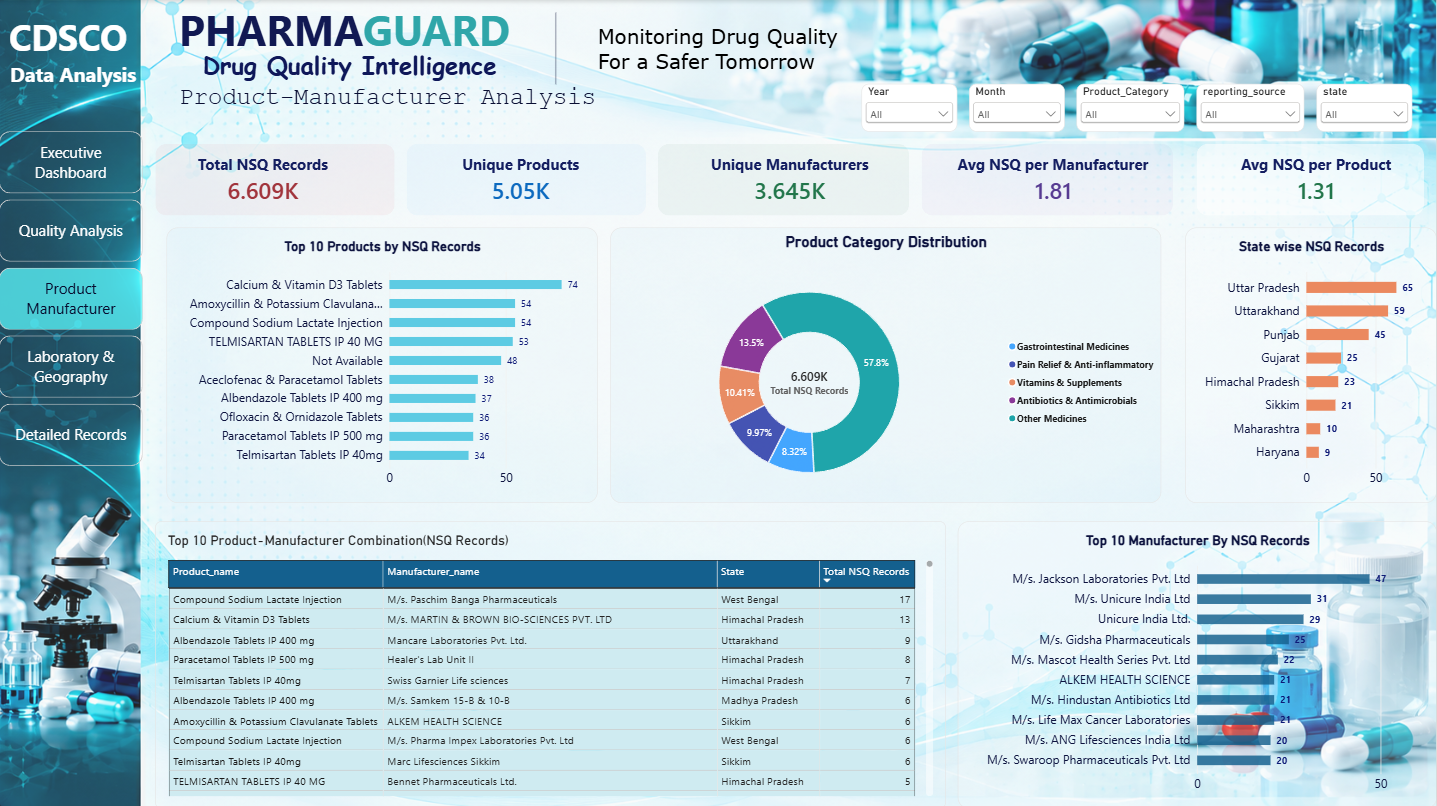

What the dashboard file says about the page in this screenshot:
{"tool":"powerbi","page":{"name":"Product Manufacturer","canvas":[1920,1080],"ordinal":2},"visuals":[{"type":"shape","box":[1600,192,304,96],"z":0},{"type":"shape","box":[208,192,320,96],"z":1000},{"type":"cardVisual","fields":{"Data":["PharmaGuard.Total NSQ Records"]},"box":[240,192,224,96],"z":2000},{"type":"textbox","box":[240,0,496,80],"z":3000},{"type":"textbox","box":[272,64,496,80],"z":4000},{"type":"textbox","box":[240,112,640,64],"z":5000},{"type":"shape","box":[720,16,48,96],"z":6000},{"type":"textbox","box":[800,32,336,80],"z":7000},{"type":"slicer","fields":{"Values":["PharmaGuard.report_month_name"]},"box":[1296,112,128,64],"z":8000},{"type":"slicer","fields":{"Values":["PharmaGuard.report_year"]},"box":[1152,112,128,64],"z":9000},{"type":"slicer","fields":{"Values":["PharmaGuard.reporting_source"]},"box":[1600,112,144,64],"z":10000},{"type":"slicer","fields":{"Values":["PharmaGuard.Product_Category"]},"box":[1440,112,144,64],"z":11000},{"type":"slicer","fields":{"Values":["PharmaGuard.state"]},"box":[1760,112,128,64],"z":12000},{"type":"shape","box":[544,192,320,96],"z":13000},{"type":"shape","box":[880,192,336,96],"z":14000},{"type":"shape","box":[1232,192,336,96],"z":15000},{"type":"cardVisual","fields":{"Data":["PharmaGuard.Unique Products"]},"box":[592,192,208,96],"z":16000},{"type":"cardVisual","fields":{"Data":["PharmaGuard.Unique Manufacturers"]},"box":[928,192,256,96],"z":17000},{"type":"cardVisual","fields":{"Data":["PharmaGuard.Avg NSQ per Manufacturer"]},"box":[1264,192,288,96],"z":18000},{"type":"cardVisual","fields":{"Data":["PharmaGuard.Avg NSQ per Product"]},"box":[1632,192,256,96],"z":19000},{"type":"barChart","title":" Top 10 Manufacturer By NSQ Records ","fields":{"Category":["PharmaGuard.manufacturer_short_name"],"Y":["PharmaGuard.Total NSQ Records"]},"box":[1280,696,640,384],"z":20000},{"type":"textbox","box":[0,16,192,176],"z":21000},{"type":"tableEx","title":"Top 10 Product-Manufacturer Combination(NSQ Records)","fields":{"Values":["PharmaGuard.product_short_name","PharmaGuard.manufacturer_short_name","PharmaGuard.manufacturer_state","PharmaGuard.Total NSQ Records"]},"box":[208,696,1056,384],"z":22000},{"type":"barChart","title":"Top 10 Products by NSQ Records","fields":{"Category":["PharmaGuard.product_short_name"],"Y":["PharmaGuard.Total NSQ Records"]},"box":[224,304,576,368],"z":23000},{"type":"donutChart","title":"Product Category Distribution","fields":{"Category":["PharmaGuard.Product_Category"],"Y":["PharmaGuard.Total NSQ Records"]},"box":[816,304,736,368],"z":24000},{"type":"barChart","title":"State wise NSQ Records","fields":{"Category":["PharmaGuard.manufacturer_state"],"Y":["PharmaGuard.Total NSQ Records"]},"box":[1584,304,336,368],"z":25000},{"type":"pageNavigator","box":[0,176,192,448],"z":25001}]}

Visuals, with their boxes on the page's 1920x1080 design canvas (x1, y1, x2, y2). These are canvas units, not pixel positions in the 1437x806 screenshot, which may show the page scaled, cropped or inside an application window:
shape: detection(1600, 192, 1904, 288)
shape: detection(208, 192, 528, 288)
cardVisual - PharmaGuard.Total NSQ Records: detection(240, 192, 464, 288)
textbox: detection(240, 0, 736, 80)
textbox: detection(272, 64, 768, 144)
textbox: detection(240, 112, 880, 176)
shape: detection(720, 16, 768, 112)
textbox: detection(800, 32, 1136, 112)
slicer - PharmaGuard.report_month_name: detection(1296, 112, 1424, 176)
slicer - PharmaGuard.report_year: detection(1152, 112, 1280, 176)
slicer - PharmaGuard.reporting_source: detection(1600, 112, 1744, 176)
slicer - PharmaGuard.Product_Category: detection(1440, 112, 1584, 176)
slicer - PharmaGuard.state: detection(1760, 112, 1888, 176)
shape: detection(544, 192, 864, 288)
shape: detection(880, 192, 1216, 288)
shape: detection(1232, 192, 1568, 288)
cardVisual - PharmaGuard.Unique Products: detection(592, 192, 800, 288)
cardVisual - PharmaGuard.Unique Manufacturers: detection(928, 192, 1184, 288)
cardVisual - PharmaGuard.Avg NSQ per Manufacturer: detection(1264, 192, 1552, 288)
cardVisual - PharmaGuard.Avg NSQ per Product: detection(1632, 192, 1888, 288)
" Top 10 Manufacturer By NSQ Records " barChart: detection(1280, 696, 1920, 1080)
textbox: detection(0, 16, 192, 192)
"Top 10 Product-Manufacturer Combination(NSQ Records)" tableEx: detection(208, 696, 1264, 1080)
"Top 10 Products by NSQ Records" barChart: detection(224, 304, 800, 672)
"Product Category Distribution" donutChart: detection(816, 304, 1552, 672)
"State wise NSQ Records" barChart: detection(1584, 304, 1920, 672)
pageNavigator: detection(0, 176, 192, 624)
